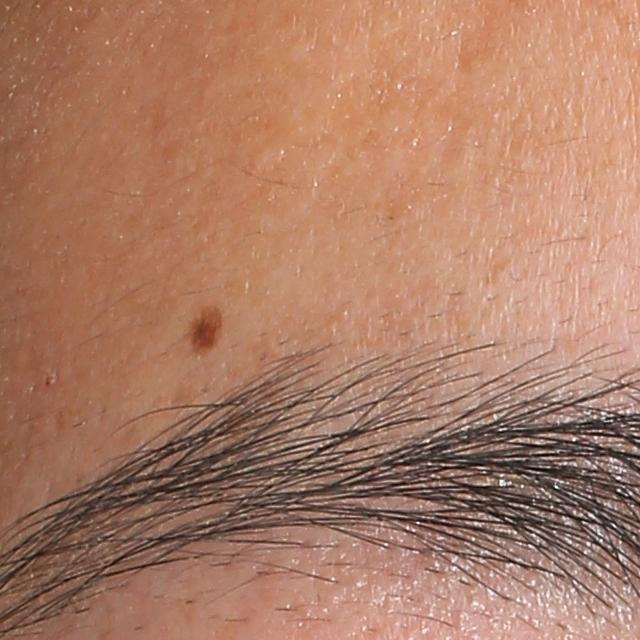nevus: (182, 302, 227, 366)
